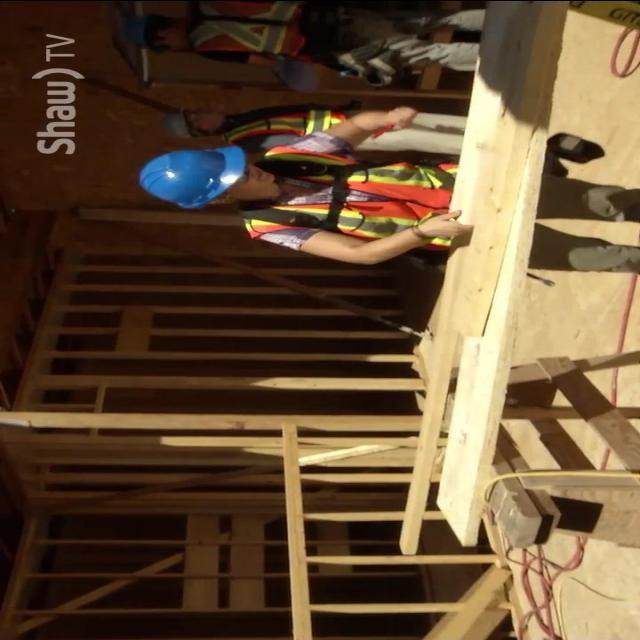helmet: (130, 140, 246, 210)
jacket: (234, 140, 452, 262)
